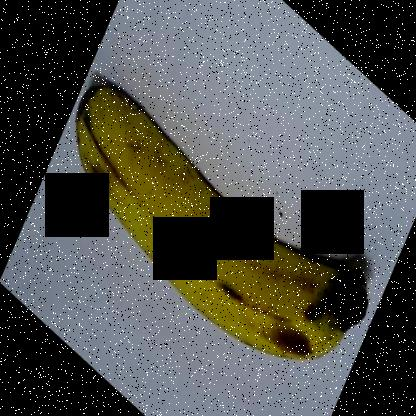ripe: (63, 72, 378, 378)
